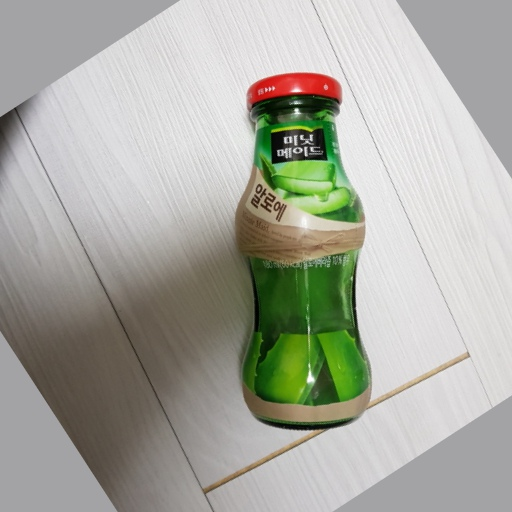Glass_4: (233, 67, 380, 431)
